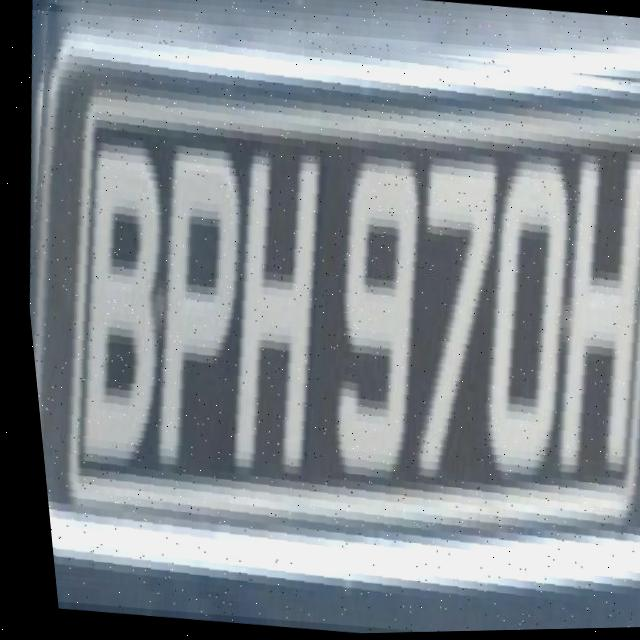LicensePlate: (1, 0, 640, 640)
